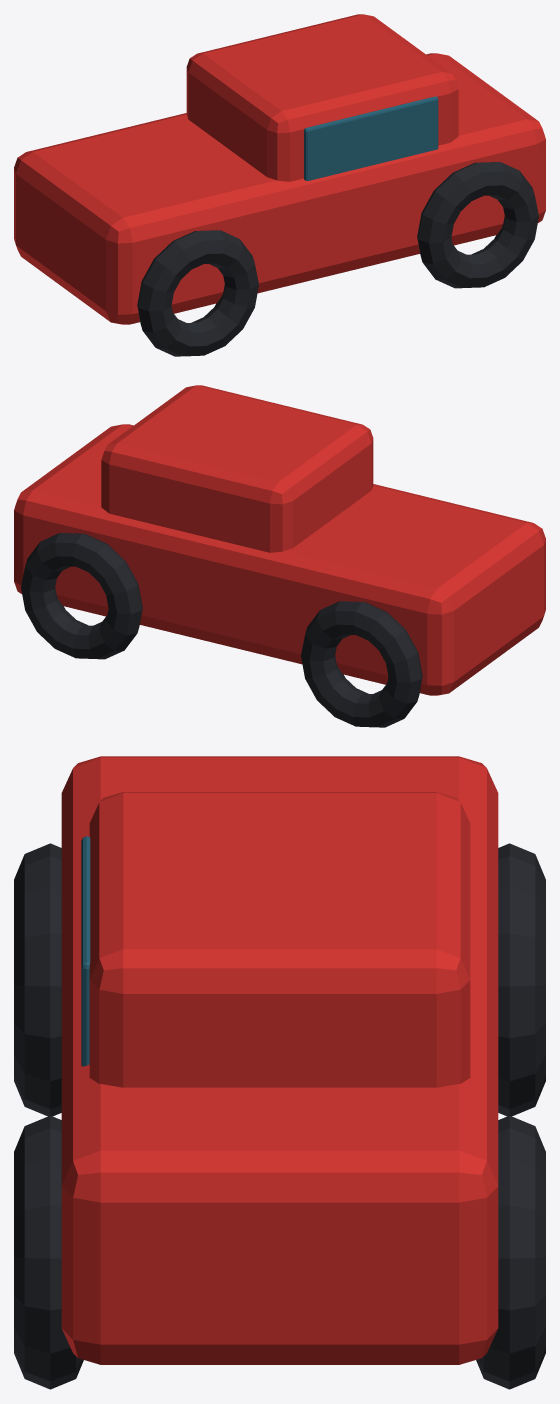
Rendered from car.glb.
3 renders of one model, top to bottom at view 1: azimuth 30°, elevation 25°; view 2: azimuth 150°, elevation 25°; view 3: azimuth 270°, elevation 25°, orthographic. The views are drawn at different scales.
Visible parts, largest first — view 1: CarBody, Cabin, Wheel, Wheel.002, Windows; view 2: CarBody, Cabin, Wheel.001, Wheel.003; view 3: CarBody, Cabin, Wheel.002, Wheel.003, Wheel, Wheel.001, Windows.
Boxes of the visible parts, x1=… form: CarBody: x1=14, y1=53, x2=545, y2=324; Cabin: x1=186, y1=14, x2=458, y2=181; Wheel: x1=137, y1=230, x2=258, y2=356; Wheel.002: x1=417, y1=162, x2=538, y2=288; Windows: x1=304, y1=96, x2=438, y2=180; CarBody: x1=14, y1=424, x2=545, y2=695; Cabin: x1=101, y1=385, x2=373, y2=552; Wheel.001: x1=301, y1=601, x2=422, y2=727; Wheel.003: x1=21, y1=533, x2=142, y2=659; CarBody: x1=61, y1=756, x2=498, y2=1364; Cabin: x1=89, y1=792, x2=470, y2=1087; Wheel.002: x1=14, y1=1115, x2=83, y2=1389; Wheel.003: x1=476, y1=1115, x2=545, y2=1389; Wheel: x1=14, y1=843, x2=61, y2=1116; Wheel.001: x1=498, y1=843, x2=545, y2=1116; Windows: x1=81, y1=836, x2=90, y2=1066.
Size of the model in its own units: 3.6 by 1.62 by 1.9.
